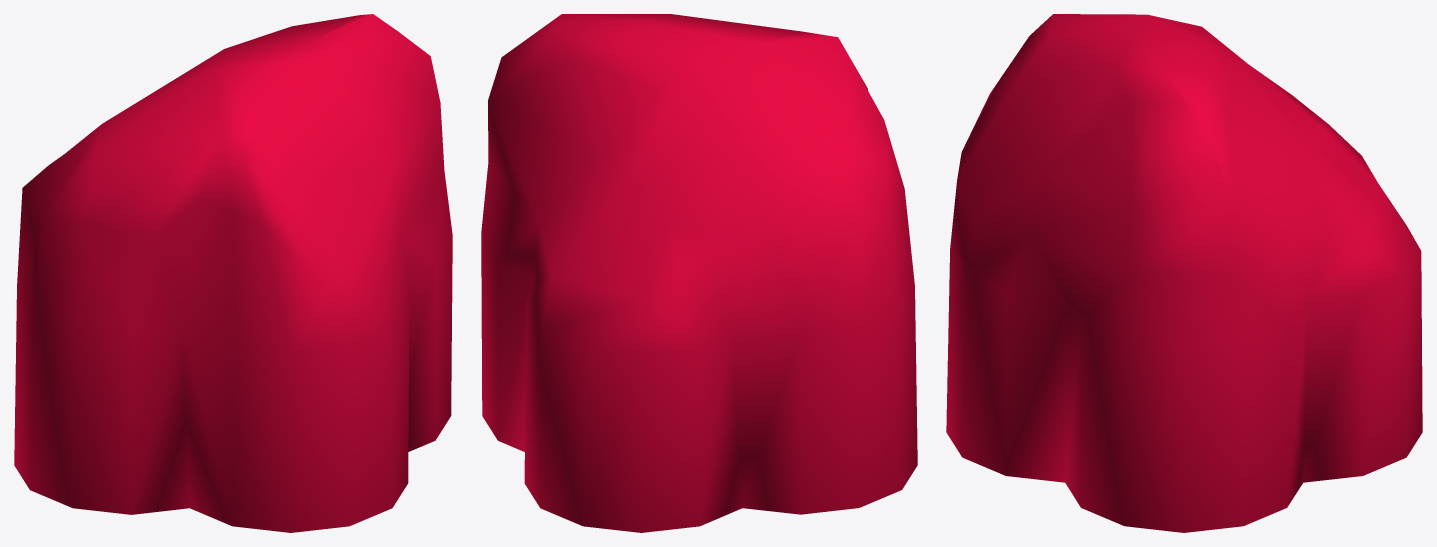
File: Pillar_Flower_Mid_05.fbx
3 renders of one model, left to right at view 1: azimuth 30°, elevation 25°; view 2: azimuth 150°, elevation 25°; view 3: azimuth 270°, elevation 25°, orthographic.
Visible parts, largest first — view 1: Pillar_Flower_Mid_05; view 2: Pillar_Flower_Mid_05; view 3: Pillar_Flower_Mid_05.
Part boxes in pixels (bbox=[...]): Pillar_Flower_Mid_05: bbox=[14, 14, 452, 532]; Pillar_Flower_Mid_05: bbox=[481, 14, 917, 532]; Pillar_Flower_Mid_05: bbox=[946, 14, 1422, 532].
Size of the model in its own units: 85.41 by 79.04 by 85.23.
